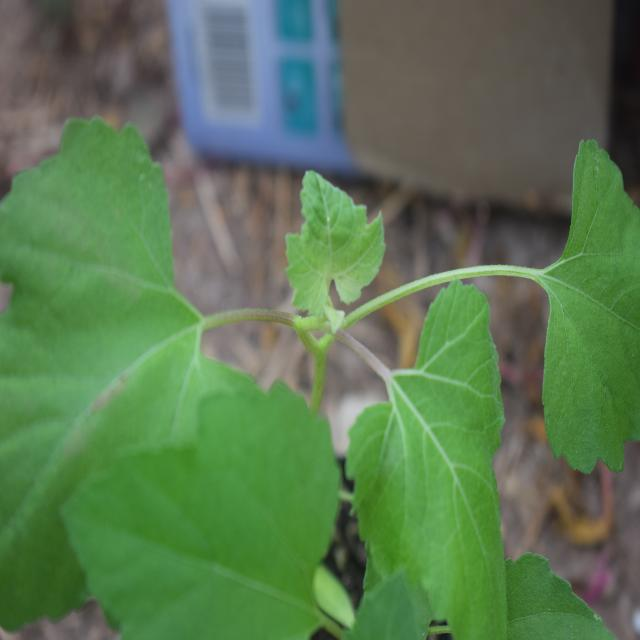cocklebur: (0, 109, 624, 593)
